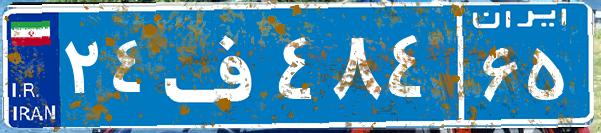2: (57, 26, 110, 107)
4: (385, 28, 445, 110), (273, 28, 330, 110), (110, 28, 158, 105)
5: (525, 38, 570, 115)
6: (475, 38, 525, 113)
8: (330, 28, 385, 110)
ف: (158, 15, 273, 115)
